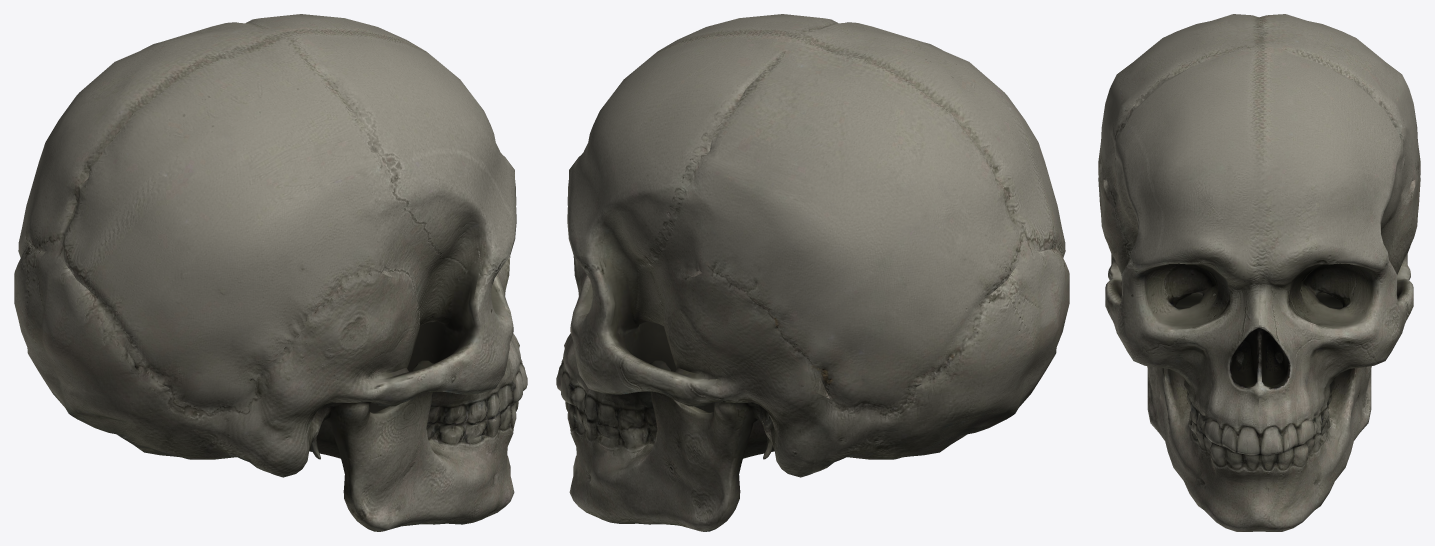
3 renders of one model, left to right at view 1: azimuth 30°, elevation 25°; view 2: azimuth 150°, elevation 25°; view 3: azimuth 270°, elevation 25°, orthographic. The views are drawn at different scales.
Visible parts, largest first — view 1: _gltfNode_0; view 2: _gltfNode_0; view 3: _gltfNode_0.
Part boxes in pixels (<box>): _gltfNode_0: <box>14,14,527,531</box>; _gltfNode_0: <box>556,14,1069,531</box>; _gltfNode_0: <box>1098,14,1420,531</box>.
Bounding box in the file's own units: 0.9773 × 0.9988 × 0.7134.
1 material, 1 textured.
